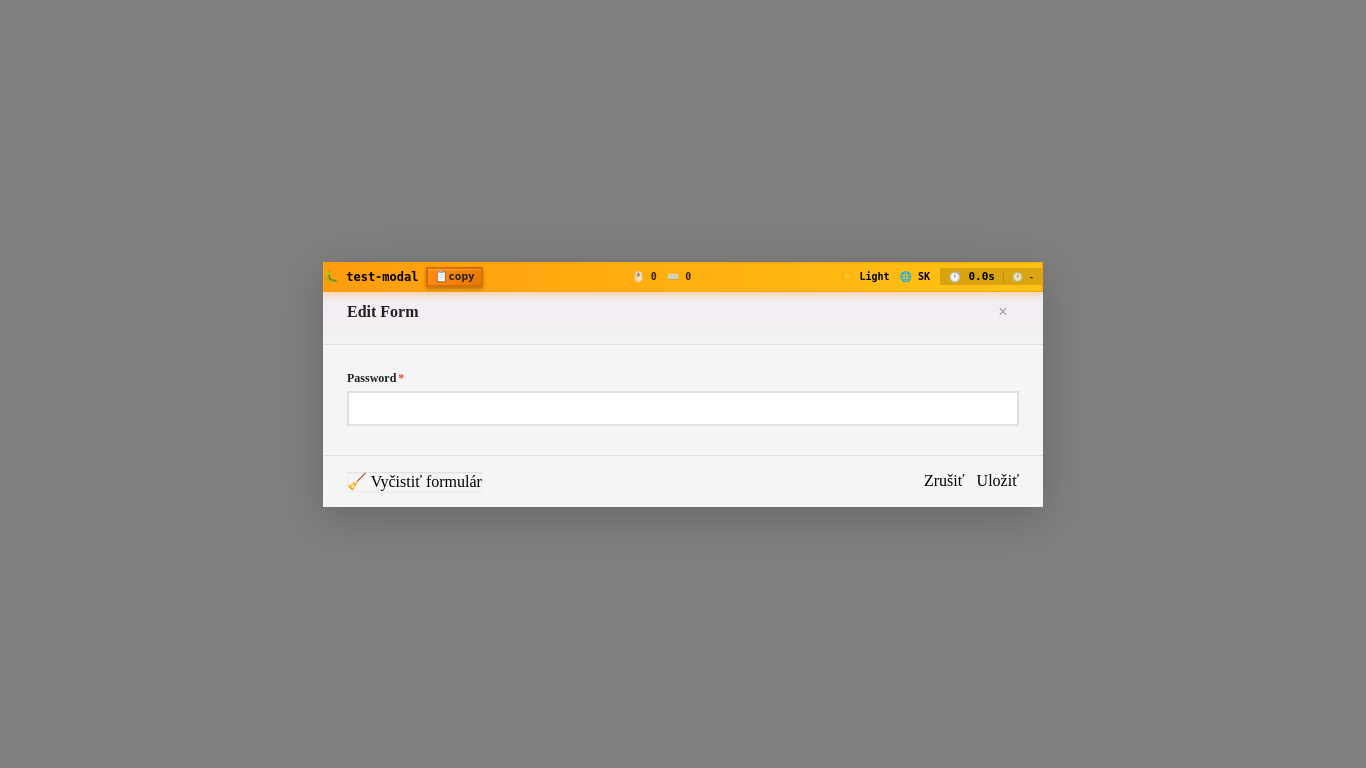
SectionEditModal › Validation › Save button is disabled when validation errors exist
The image size is (1366, 768).
Type "short" into the field labelled "Password*" at [683, 408], box [347, 390, 1019, 426]
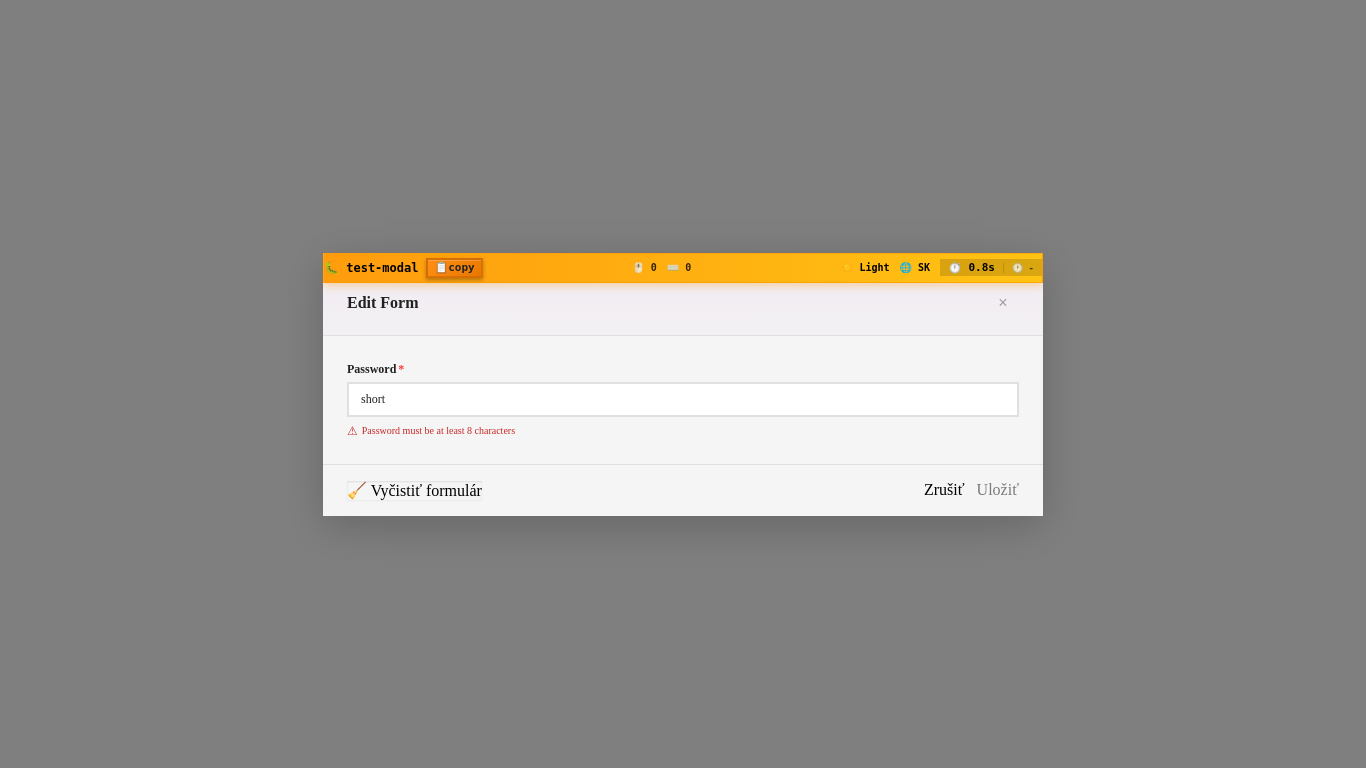
Expected: the button with test id "section-edit-modal-save" is disabled, [977, 481, 1019, 499]
